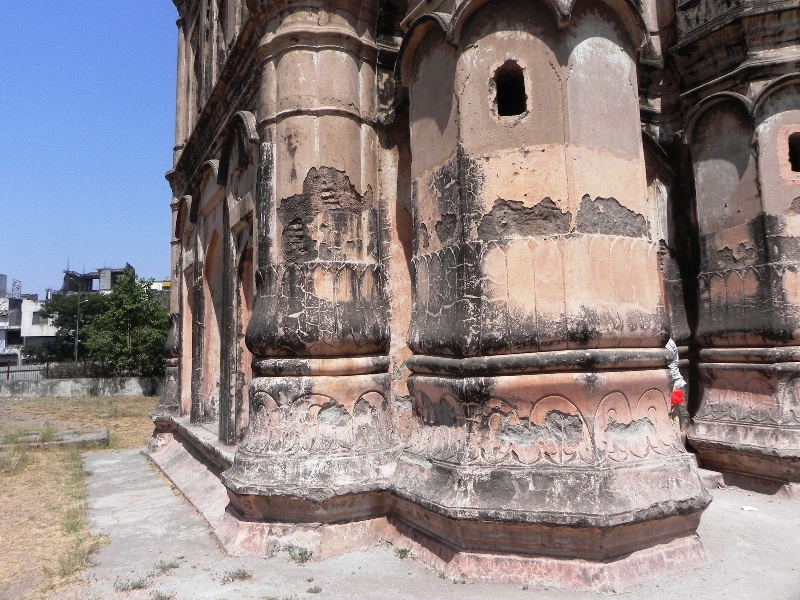Exposed Bricks: (286, 218, 308, 252), (318, 179, 341, 208)
Spalling: (479, 192, 568, 244), (577, 187, 654, 240), (499, 407, 585, 446), (434, 211, 456, 243), (418, 220, 430, 256)
